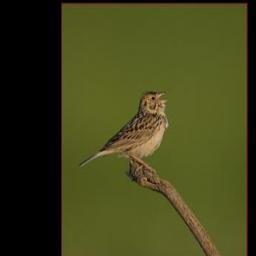Sparrow: (78, 90, 168, 175)
